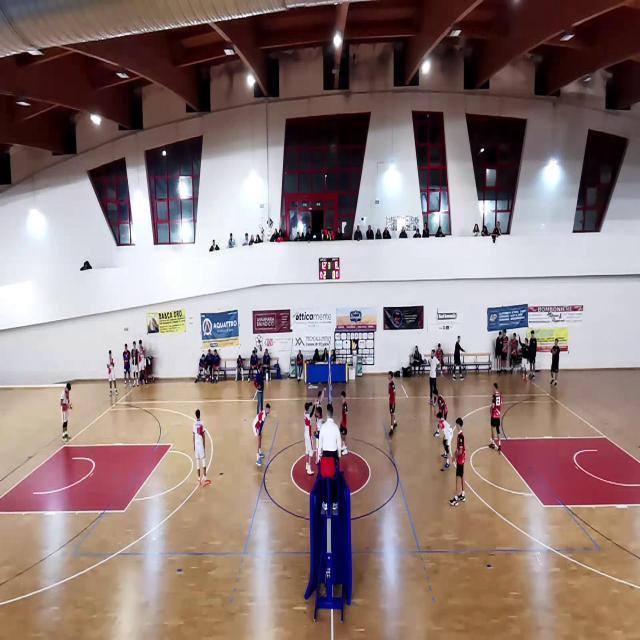volleyball: (68, 404, 72, 408)
